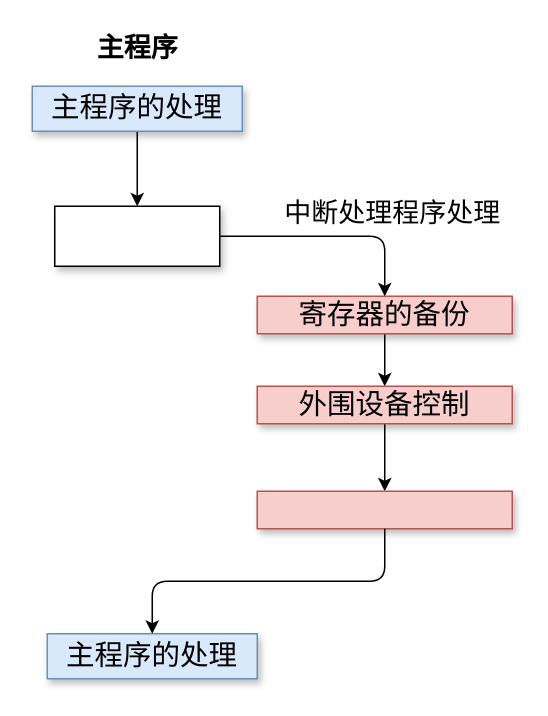
Image size: 548x716. Some labels were removed from this diagram. The shapes that lost their labels are listed below. From the top down, each one's centre as x and y in pixels, then its label:
the point at 138,238: 中断
the point at 385,511: 寄存器的还原
